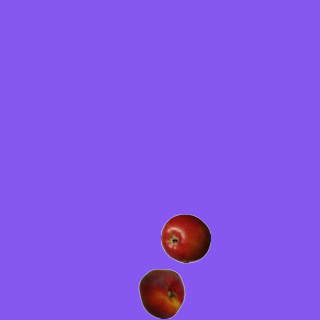Apple Braeburn: (160, 213, 210, 263)
Nectarine Flat: (136, 268, 186, 318)
